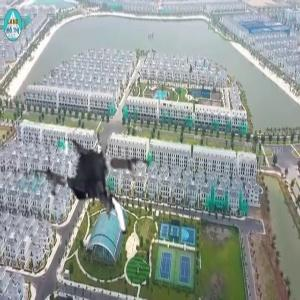drone: (25, 124, 163, 262)
